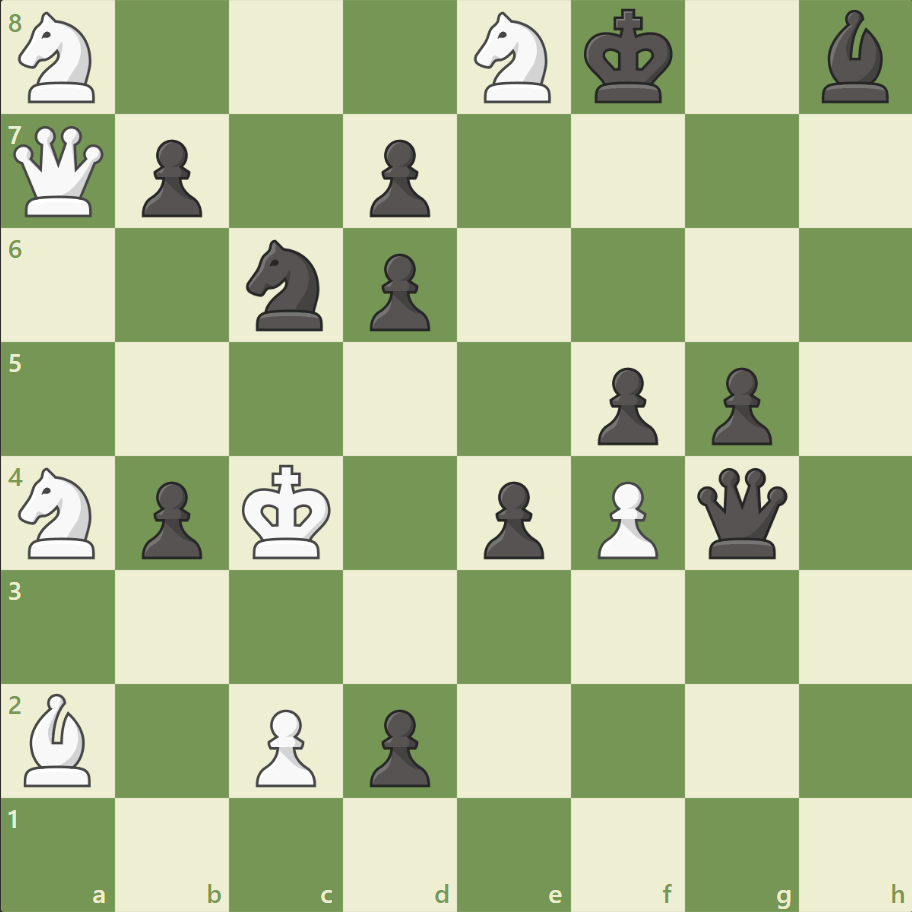B: (17, 687, 101, 790)
K: (238, 458, 338, 566)
N: (11, 7, 108, 110), (465, 7, 562, 110), (11, 461, 108, 564)
P: (247, 700, 322, 791), (588, 473, 662, 564)
Q: (10, 122, 109, 222)
b: (812, 6, 896, 109)
k: (579, 4, 679, 112)
n: (238, 234, 335, 337)
p: (133, 132, 208, 223), (701, 359, 776, 450), (133, 473, 208, 564), (474, 473, 549, 564), (361, 132, 435, 223), (361, 246, 435, 337), (588, 359, 662, 450), (361, 700, 435, 791)
q: (691, 463, 790, 562)
